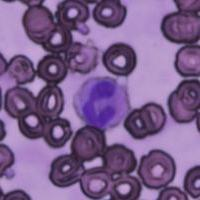N: (74, 75, 130, 130)
